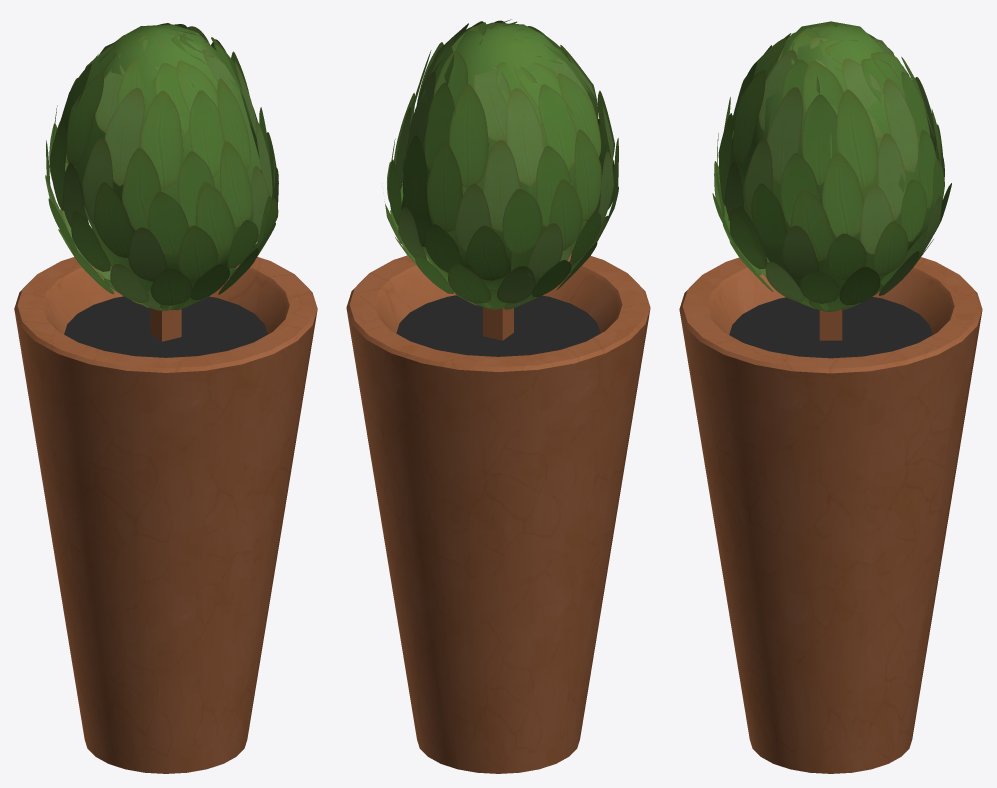
The model's file is PlantPot01.glb.
3 renders of one model, left to right at view 1: azimuth 30°, elevation 25°; view 2: azimuth 150°, elevation 25°; view 3: azimuth 270°, elevation 25°, orthographic.
Parts seen in each view (by area): view 1: PlantPot; view 2: PlantPot; view 3: PlantPot.
Boxes of the visible parts, <box> form: PlantPot: <box>14,23,317,773</box>; PlantPot: <box>346,19,650,773</box>; PlantPot: <box>679,21,982,773</box>.
Size of what is drawn, in the model's own units: 0.9206 by 2.39 by 0.9206.
Materials: 3 (2 with a texture image).
